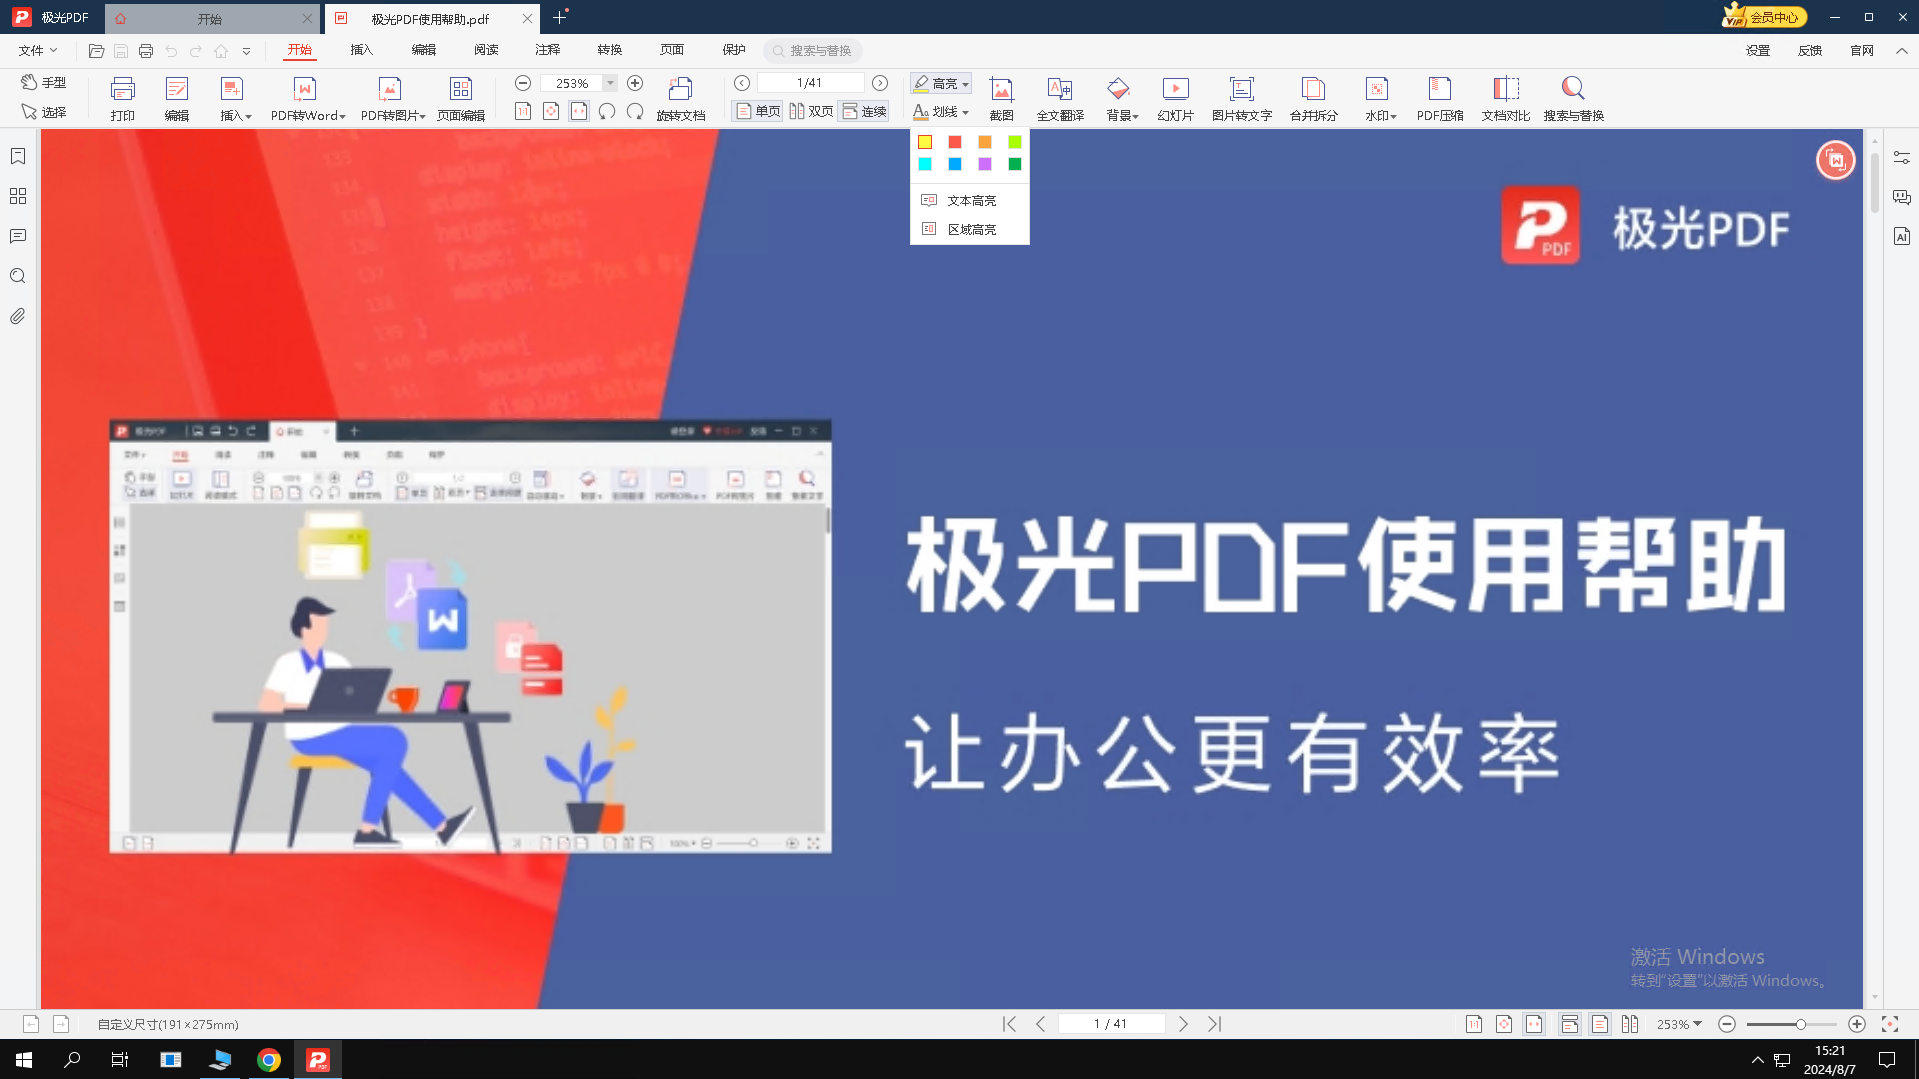Clickable: (913, 188, 1023, 213), (915, 220, 1021, 241), (966, 154, 999, 183), (999, 150, 1028, 182), (996, 128, 1027, 157), (908, 152, 938, 177), (940, 152, 969, 177), (966, 132, 996, 155), (937, 130, 966, 154), (911, 130, 934, 152)
Root: (909, 130, 1032, 246)
